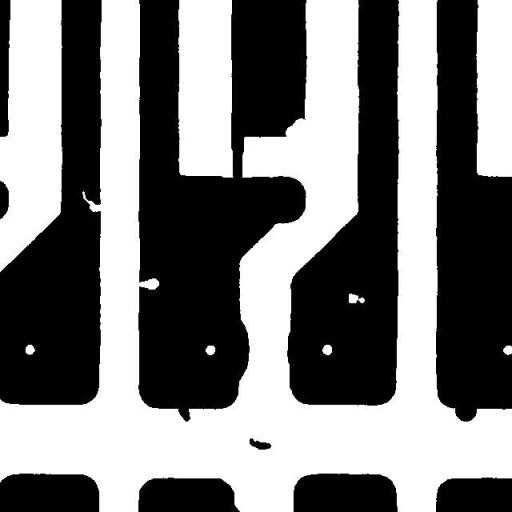copper: (242, 430, 278, 457)
mousebite: (278, 110, 316, 148), (74, 183, 106, 219), (128, 270, 166, 297)
pin-hole: (341, 286, 372, 310)
short: (223, 118, 251, 192)
spur: (447, 392, 484, 429), (170, 396, 198, 429)
